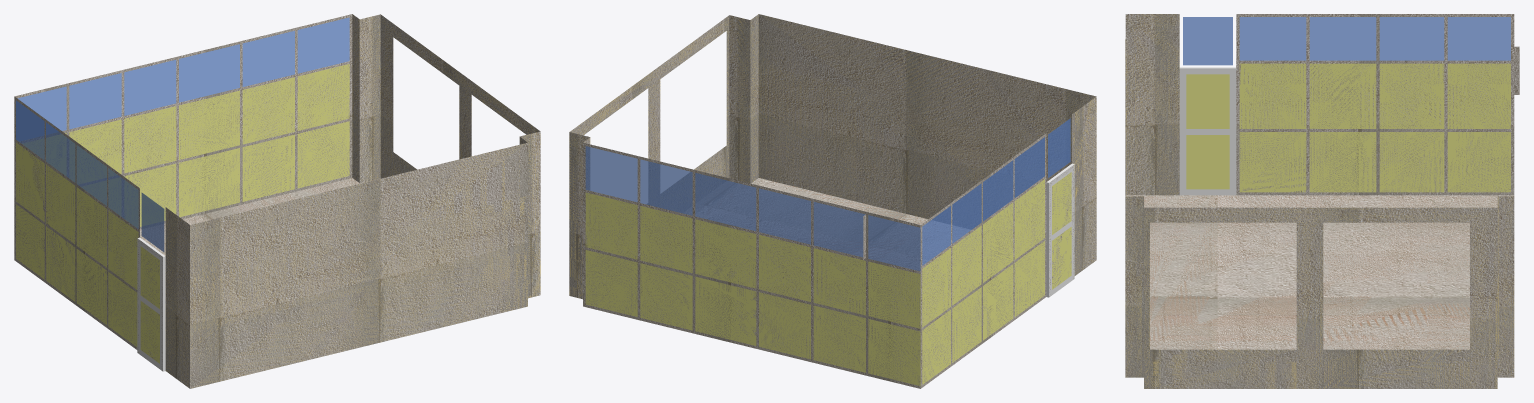
The model's file is LAB016.obj.
The picture shows the model from 3 angles, left to right: view 1: azimuth 30°, elevation 25°; view 2: azimuth 150°, elevation 25°; view 3: azimuth 270°, elevation 25°; orthographic projection. The views are drawn at different scales.
Parts seen in each view (by area): view 1: Mesh5 LAB016 Model, Mesh1 puerta5_1 LAB016 Model, Mesh6 LAB016 Model; view 2: Mesh5 LAB016 Model, Mesh1 puerta5_1 LAB016 Model, Mesh6 LAB016 Model; view 3: Mesh5 LAB016 Model, Mesh1 puerta5_1 LAB016 Model, Mesh6 LAB016 Model.
Part boxes in pixels (x1,y1,x2,y2): Mesh5 LAB016 Model: (14,14,540,388); Mesh1 puerta5_1 LAB016 Model: (137,237,165,371); Mesh6 LAB016 Model: (141,192,164,251); Mesh5 LAB016 Model: (569,14,1096,388); Mesh1 puerta5_1 LAB016 Model: (1046,163,1074,297); Mesh6 LAB016 Model: (1048,118,1070,177); Mesh5 LAB016 Model: (1125,14,1519,388); Mesh1 puerta5_1 LAB016 Model: (1179,67,1236,195); Mesh6 LAB016 Model: (1183,17,1232,65).
Size of the model in its own units: 6.92 by 3 by 5.91.
Materials: 6 (2 with a texture image).
